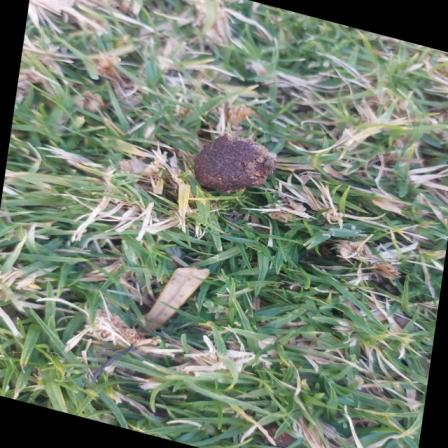dog-poop: (186, 121, 277, 204)
